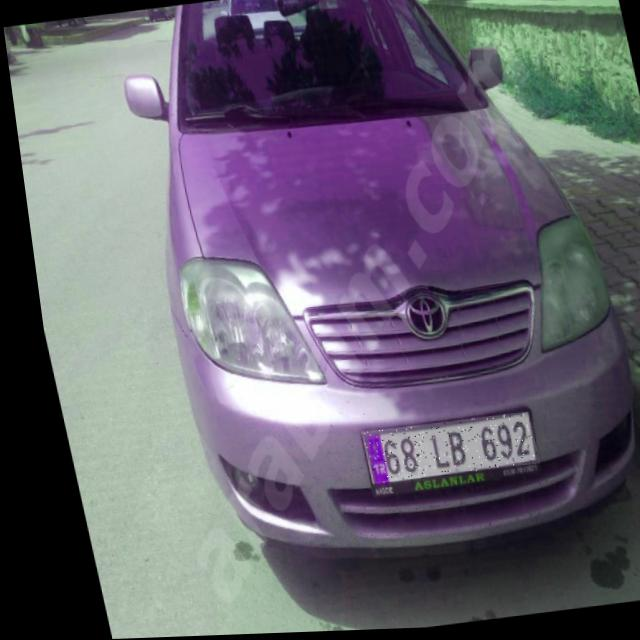license_plate: (346, 414, 528, 486)
